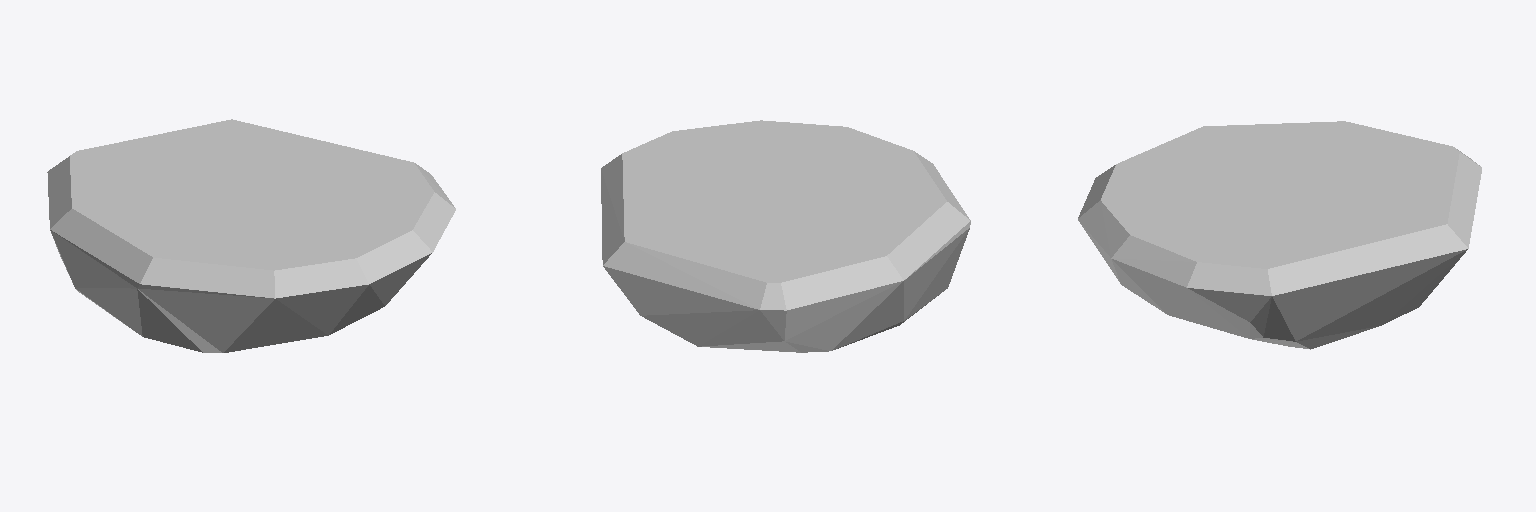
File: floating_rock.obj
The picture shows the model from 3 angles: view 1: azimuth 30°, elevation 25°; view 2: azimuth 150°, elevation 25°; view 3: azimuth 270°, elevation 25°; orthographic projection.
Parts seen in each view (by area): view 1: Circle; view 2: Circle; view 3: Circle.
Boxes of the visible parts, box(x1,y1,x2,y2) form: Circle: box(47, 119, 455, 352); Circle: box(601, 120, 970, 352); Circle: box(1078, 121, 1481, 349).
Size of the model in its own units: 3.01 by 1.02 by 3.08.